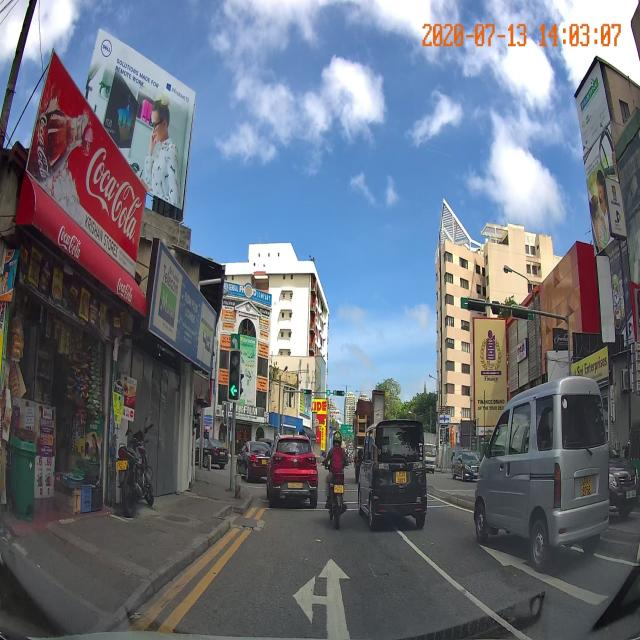forward_lft: (159, 538, 520, 631)
